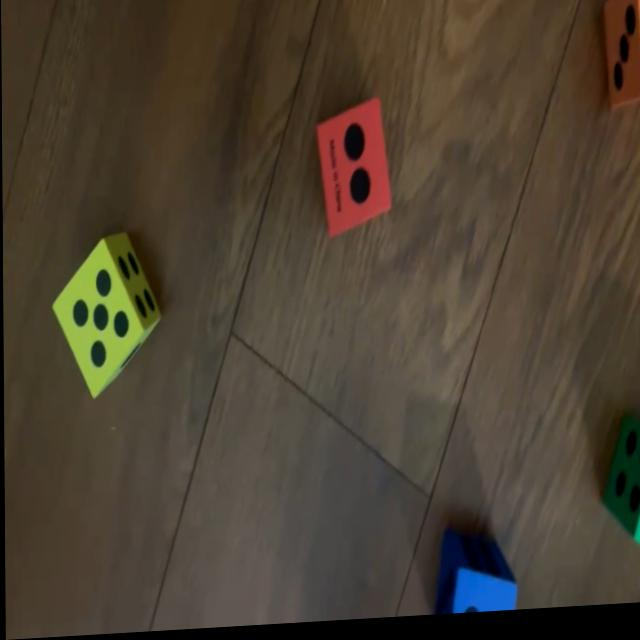cube: (315, 103, 389, 241), (436, 536, 515, 620), (600, 424, 640, 556)
